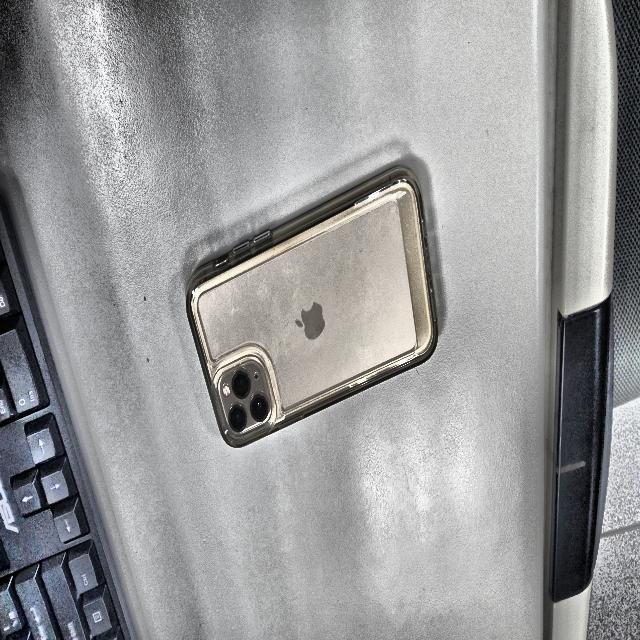PHONE: (187, 171, 436, 446)
